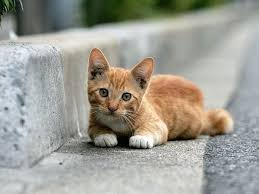cat: (82, 47, 156, 124)
